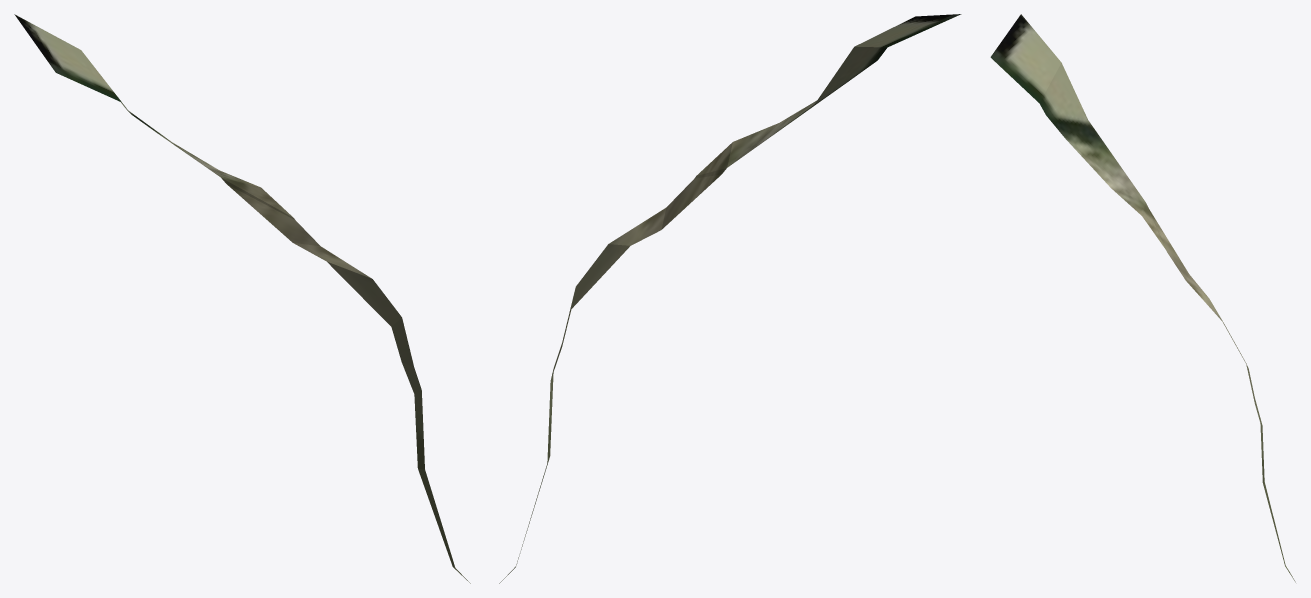
3 views of the same model, side by side, from view 1: azimuth 30°, elevation 25°; view 2: azimuth 150°, elevation 25°; view 3: azimuth 330°, elevation 25° (orthographic). The views are drawn at different scales.
Bounding box in the file's own units: 9.22 × 13.6 × 1.6.
1 material, 1 textured.
